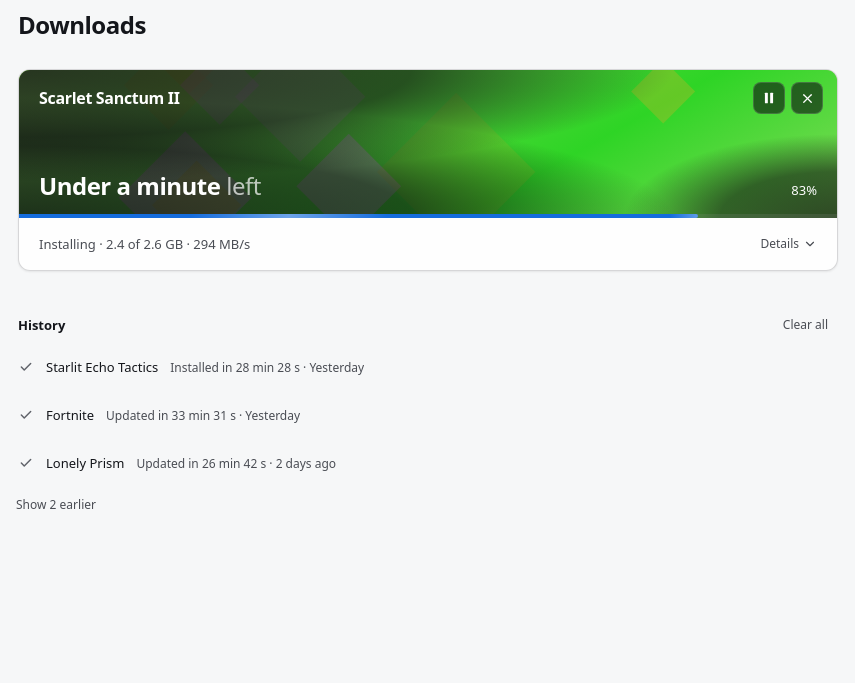
the card, running › installing still has a time left and a disk chart
Expected: the text "left" is shown, [220, 169, 261, 202]
Click the button named "show details": coordinates (789, 244) [752, 232, 825, 256]
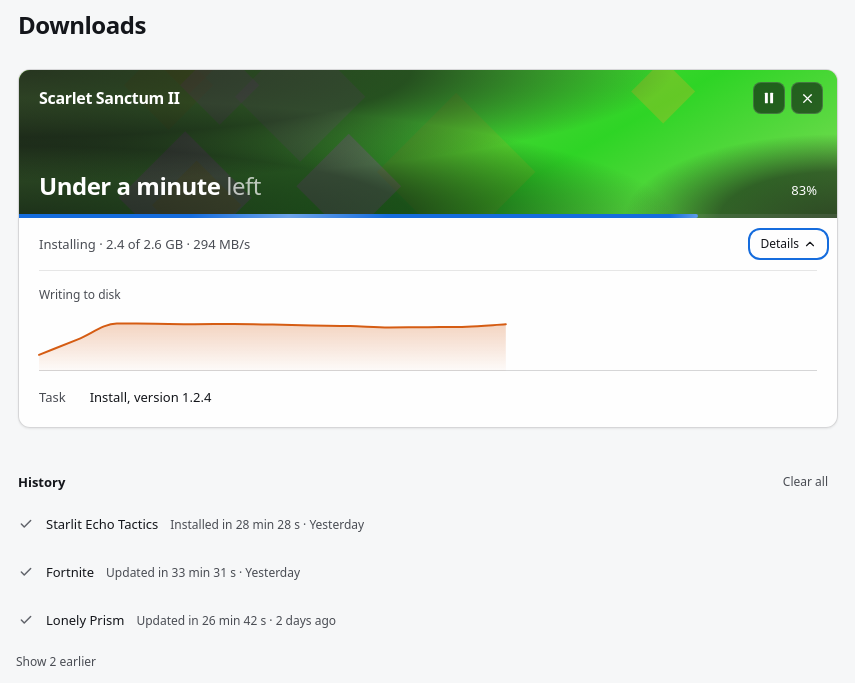
Result: the element named "Disk write speed over time" is shown at [39, 307, 817, 371]
